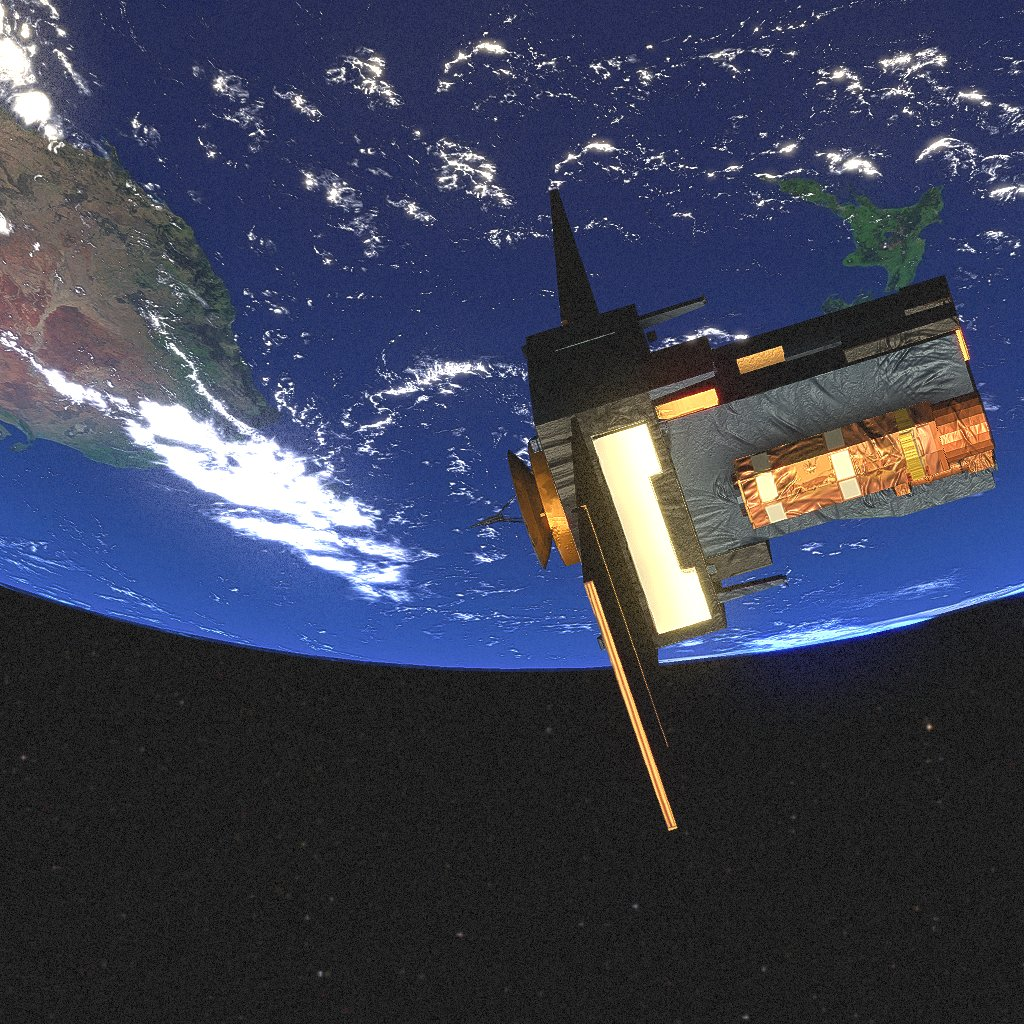soho: (470, 189, 999, 831)
